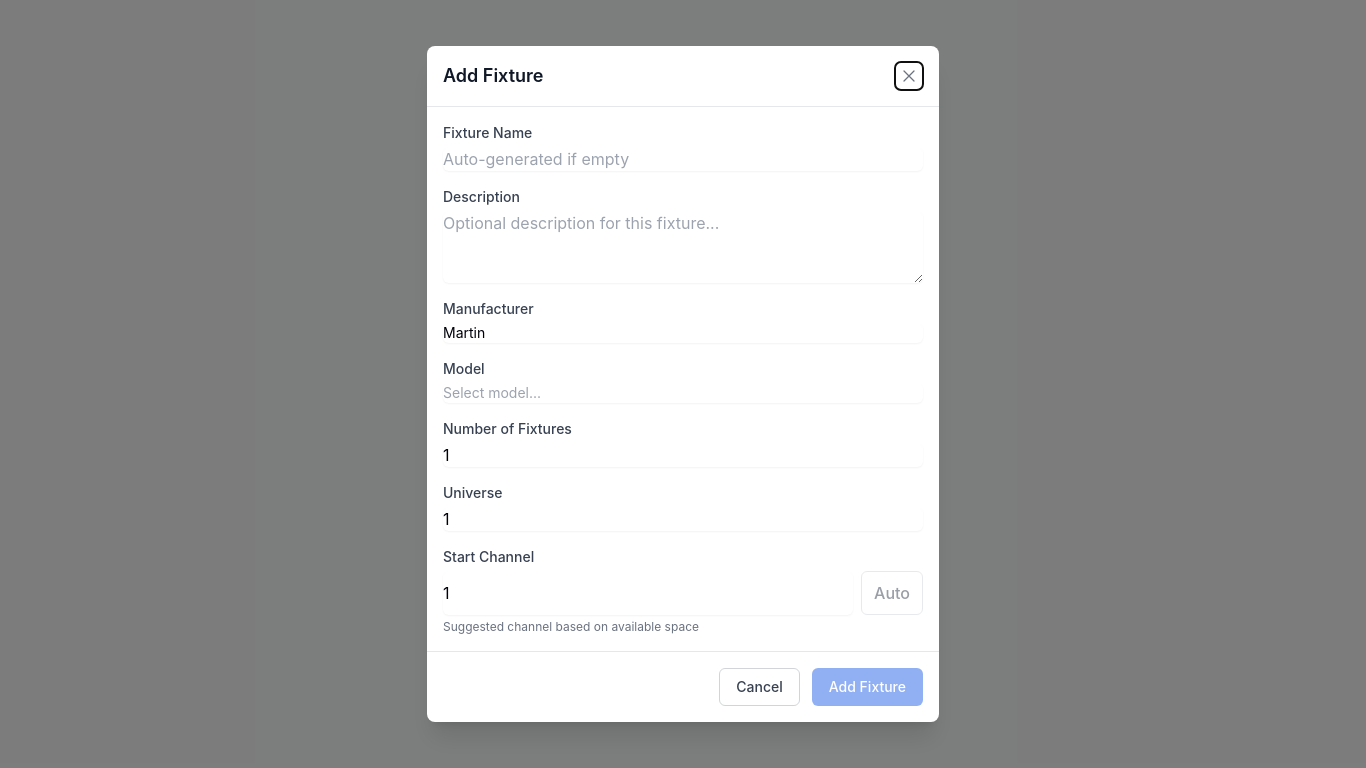
Test: AddFixtureModal fixture sources › selects the specific entry the user picks
What coordinates should you click on to do the following:
click the field labelled "Model"
I would click on:
 (683, 393)
Its box is [443,383,923,403].
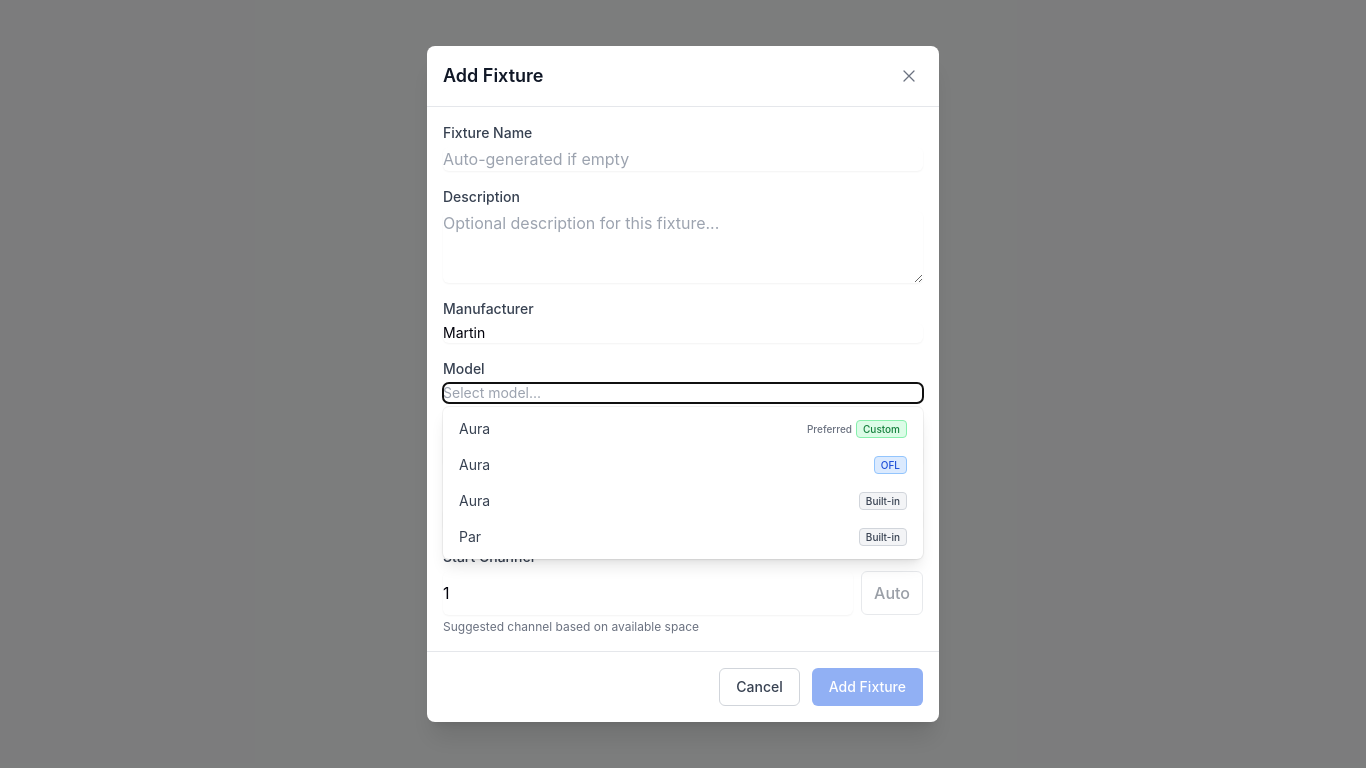
Result: the button "Aura Preferred Custom" is shown at [443,411,923,447]
What coordinates should you click on to do the following:
click the button named "Aura Source: Built-in"
I would click on:
 (475, 500)
Its box is [443,483,923,519].
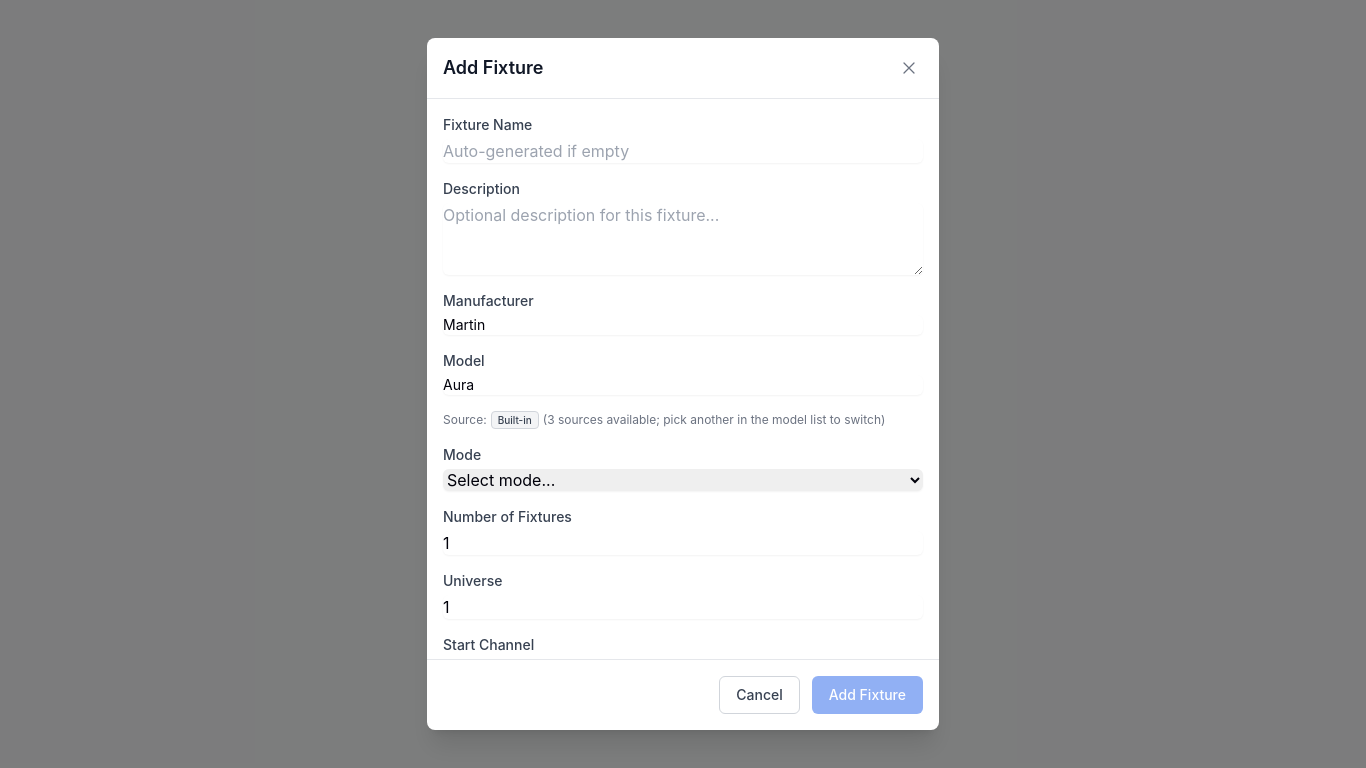
Result: the field labelled "Model" holds "Aura" at [443,375,923,395]
